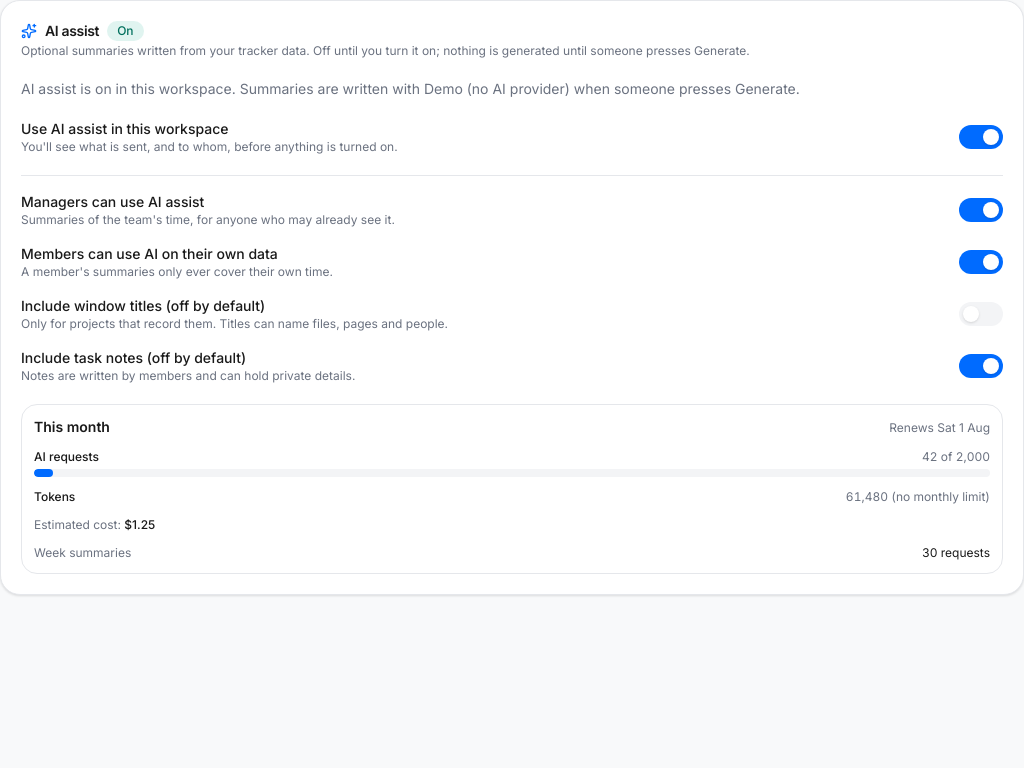
Test case: other changes › saves turning off and narrowing who may use it straight away, with no acknowledgement
Click the switch named "Managers can use AI assist" in the row of "Managers can use AI assist".
click(981, 210)  # box x1=959 y1=198 x2=1003 y2=222
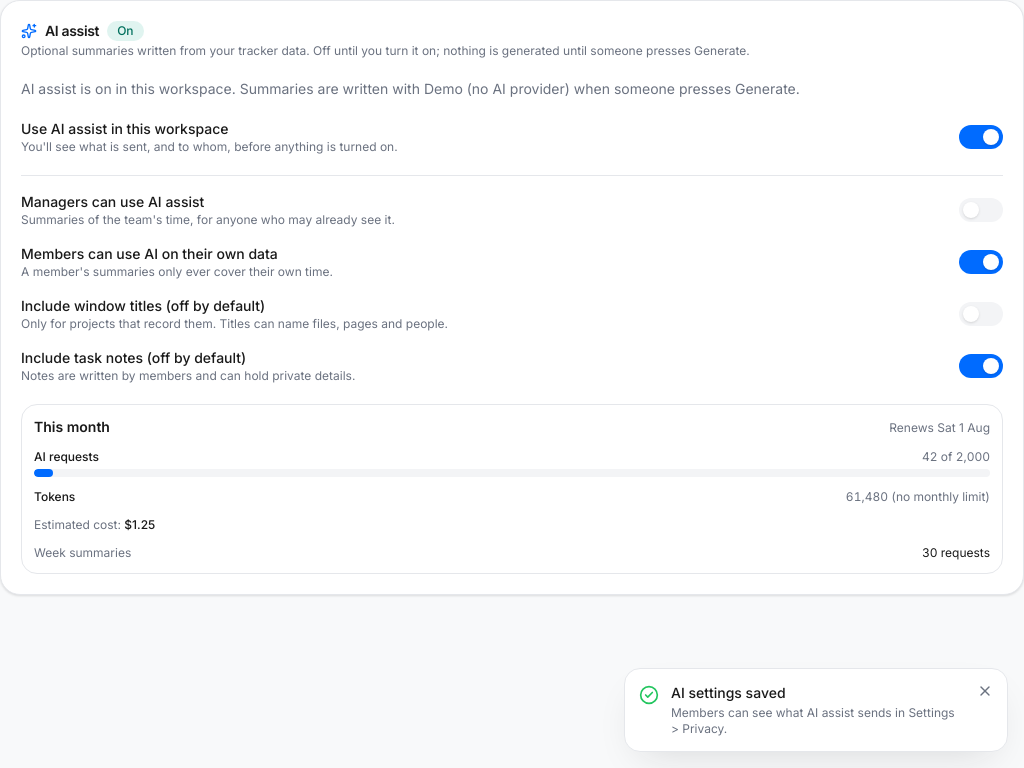
Click the switch named "Include task notes" in the row of "Include task notes (off by default)".
click(981, 366)  # box x1=959 y1=354 x2=1003 y2=378
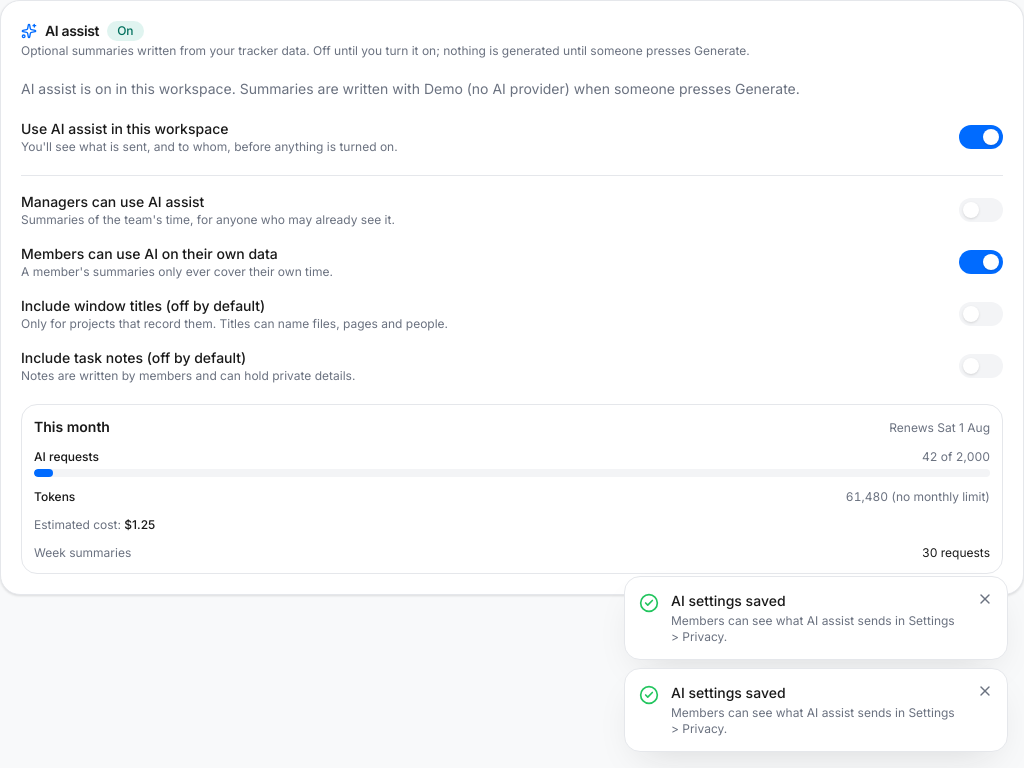
Click the switch named "Use AI assist" in the row of "Use AI assist in this workspace".
click(981, 137)  # box x1=959 y1=125 x2=1003 y2=149
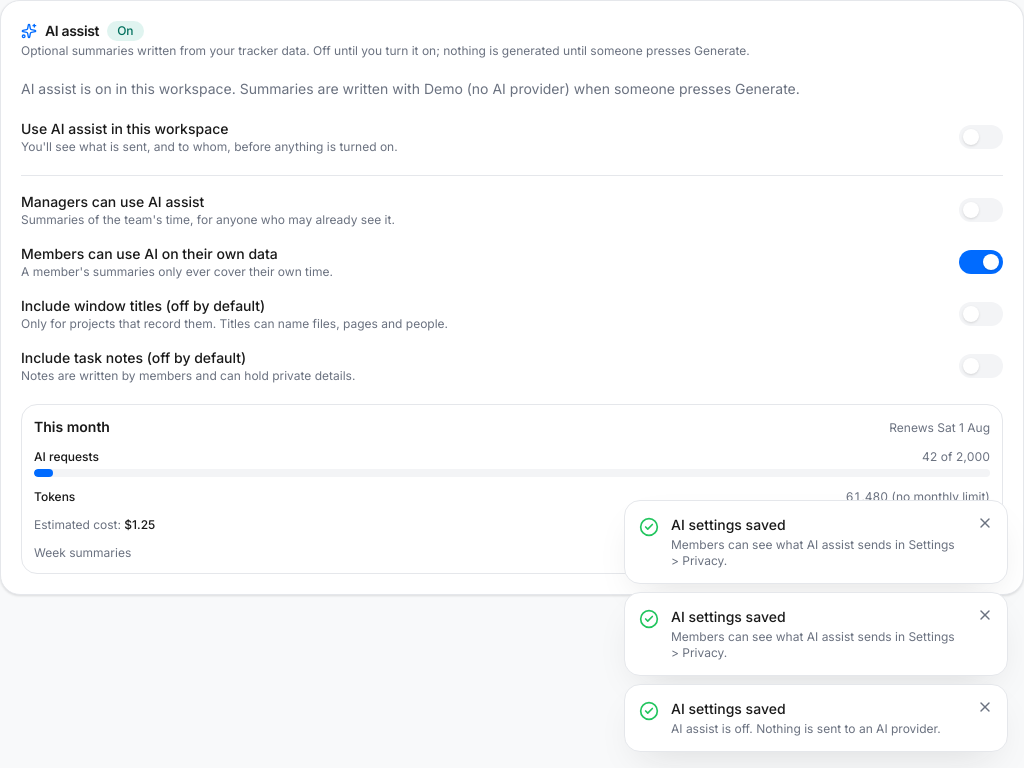
Expected: the text "AI assist is off. Nothing is sent to an AI provider." is shown, x1=671 y1=721 x2=965 y2=737
